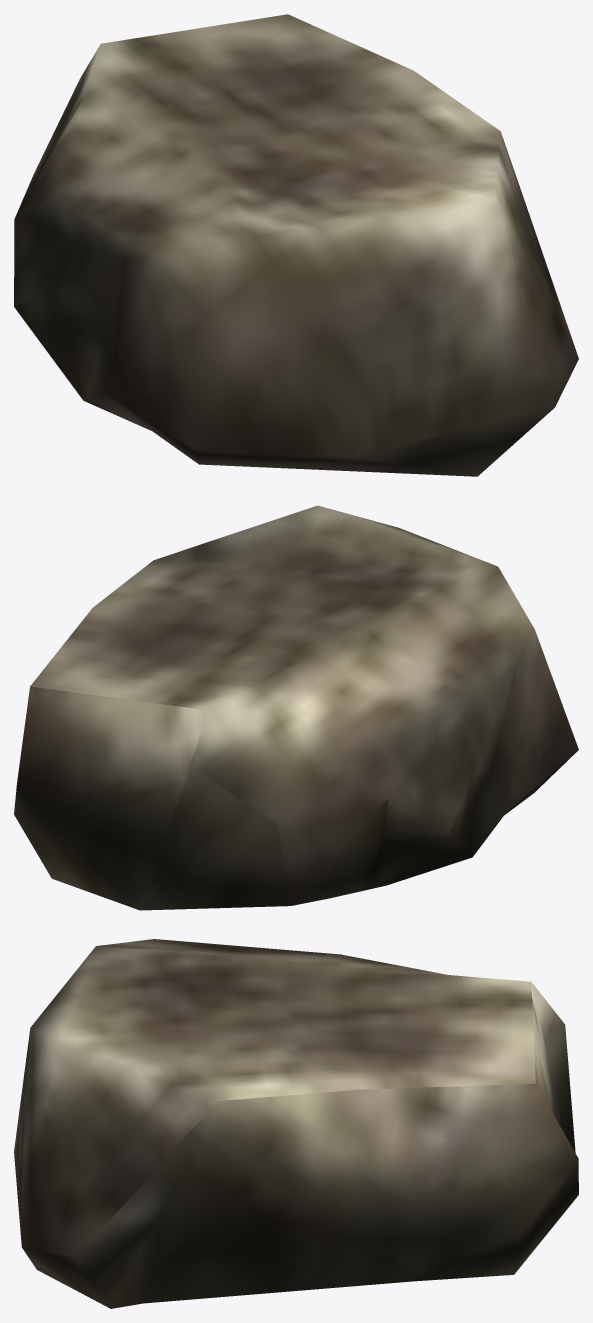
File: ShiTou_1.fbx
3 renders of one model, top to bottom at view 1: azimuth 30°, elevation 25°; view 2: azimuth 150°, elevation 25°; view 3: azimuth 270°, elevation 25°, orthographic. The views are drawn at different scales.
Parts seen in each view (by area): view 1: SM_RP_Vol_01_20; view 2: SM_RP_Vol_01_20; view 3: SM_RP_Vol_01_20.
Part boxes in pixels (box(x1,y1,x2,y2)): SM_RP_Vol_01_20: box(14, 14, 578, 476); SM_RP_Vol_01_20: box(14, 505, 578, 910); SM_RP_Vol_01_20: box(14, 939, 578, 1308).
Bounding box in the file's own units: 10.45 × 6.23 × 13.13.
